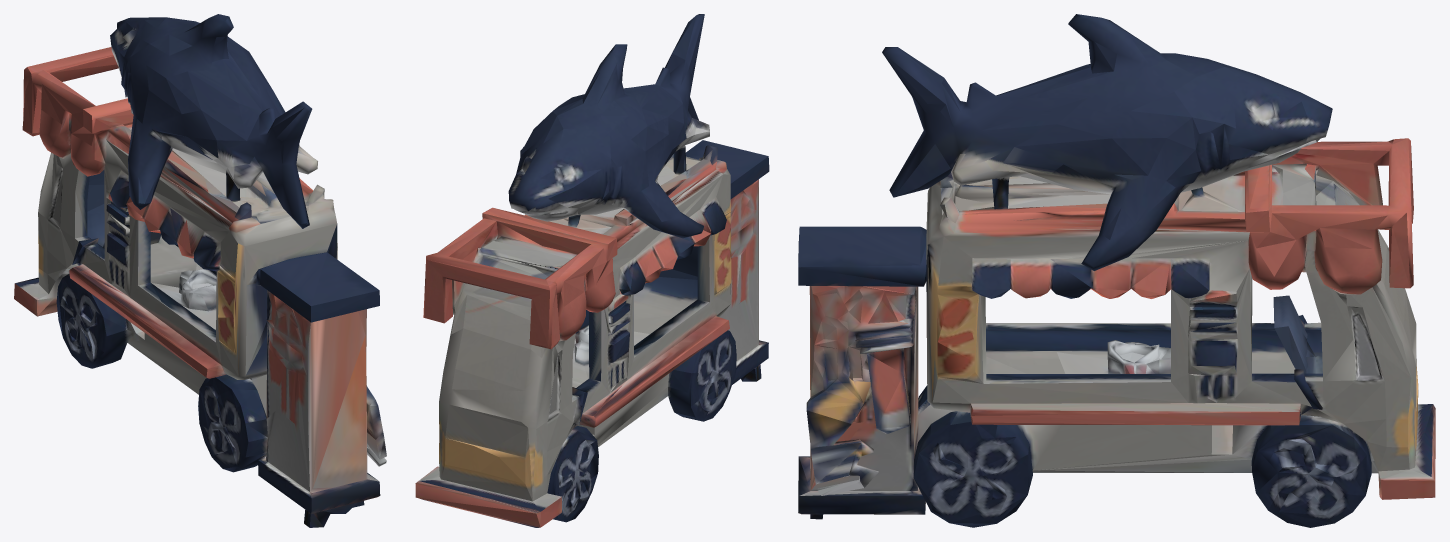
The model's file is 鲨鱼车.fbx.
3 views of the same model, side by side, from view 1: azimuth 30°, elevation 25°; view 2: azimuth 150°, elevation 25°; view 3: azimuth 270°, elevation 25° (orthographic). The views are drawn at different scales.
Visible parts, largest first — view 1: tripo_node_eab37a10.001; view 2: tripo_node_eab37a10.001; view 3: tripo_node_eab37a10.001.
Boxes of the visible parts, x1,y1,x2,y2 form: tripo_node_eab37a10.001: (14, 14, 386, 527); tripo_node_eab37a10.001: (415, 14, 769, 527); tripo_node_eab37a10.001: (798, 14, 1435, 527).
Size of the model in its own units: 12.83 by 29.29 by 33.6.
